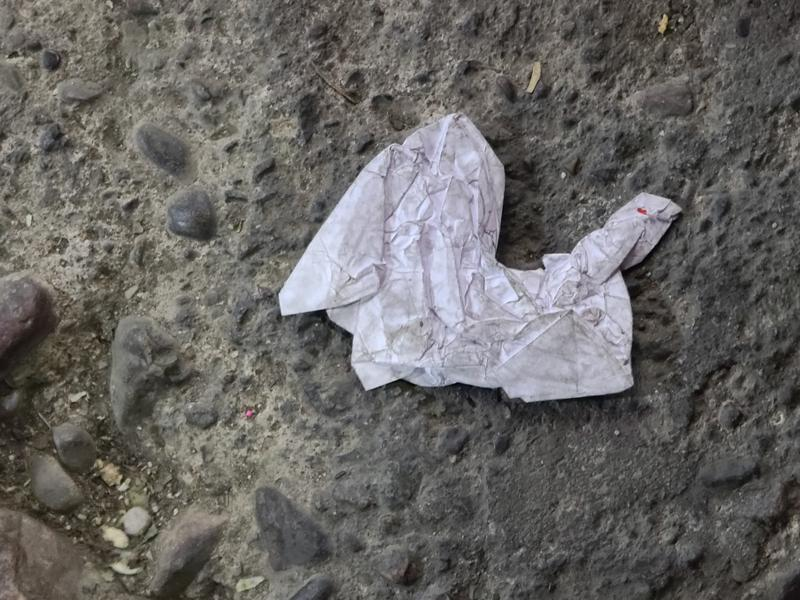papel: (277, 114, 682, 405)
